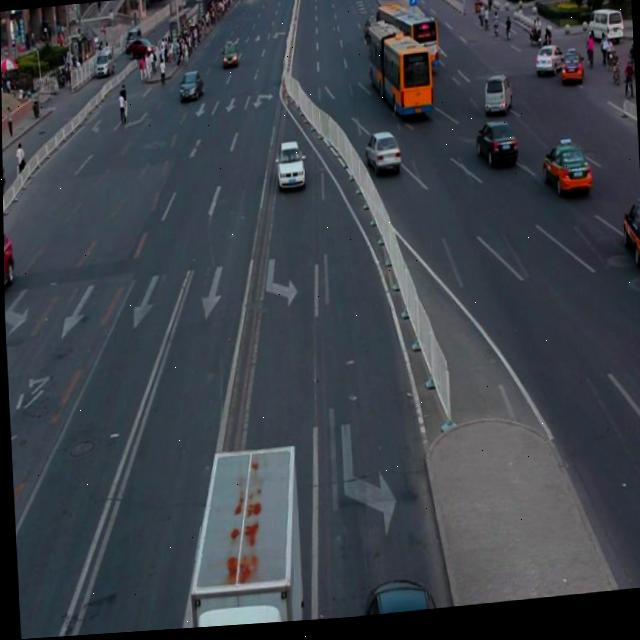bus: (180, 441, 300, 631)
car: (355, 578, 436, 621), (540, 149, 590, 205), (474, 123, 515, 173), (273, 141, 305, 194), (363, 133, 399, 178), (618, 204, 640, 273), (3, 225, 16, 301)
